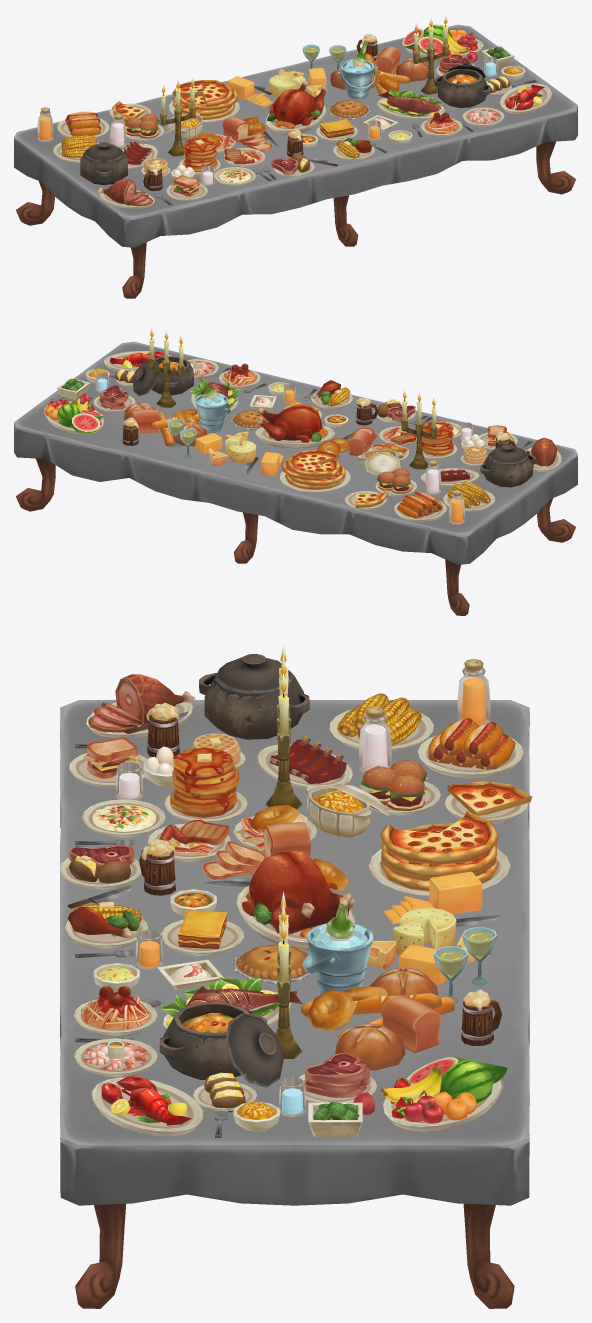
The model's file is Delicious_Food_Stuffz.glb.
3 renders of one model, top to bottom at view 1: azimuth 30°, elevation 25°; view 2: azimuth 150°, elevation 25°; view 3: azimuth 270°, elevation 25°, orthographic. The views are drawn at different scales.
Parts seen in each view (by area): view 1: unnamed (×8); view 2: unnamed (×8); view 3: unnamed (×8).
Boxes of the visible parts, <box> form: unnamed (×8): <box>14,14,577,298</box>; unnamed (×8): <box>14,327,577,615</box>; unnamed (×8): <box>59,644,532,1308</box>.
Bounding box in the file's own units: 5.18 × 1.75 × 2.33.
Materials: 3 (3 with a texture image).
